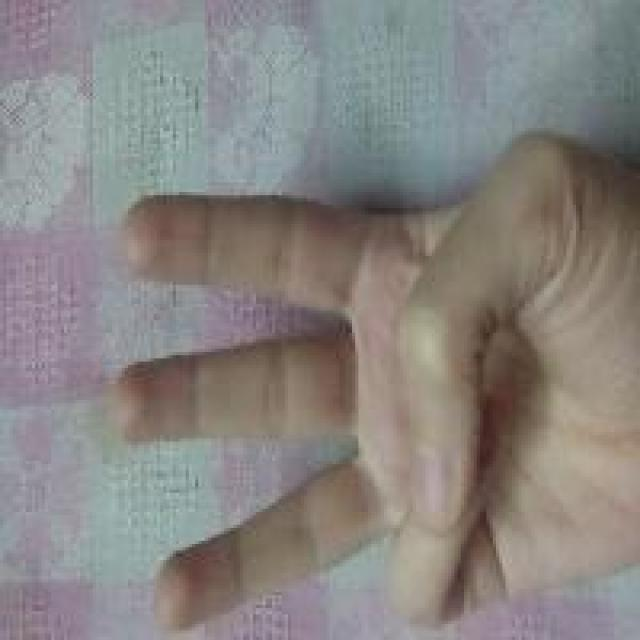W: (0, 102, 499, 640)
